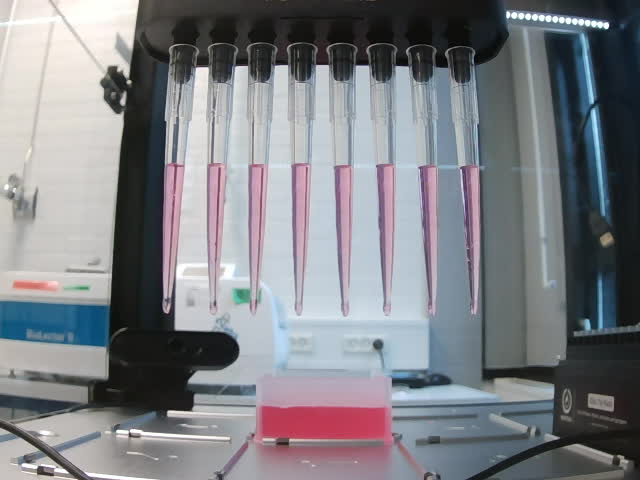pipet: (444, 43, 482, 317), (161, 44, 199, 316), (405, 43, 440, 318), (325, 42, 359, 318), (205, 43, 239, 317), (246, 42, 279, 317), (366, 42, 399, 317), (286, 43, 317, 317)
red liquid: (162, 163, 186, 316), (458, 164, 482, 317), (375, 163, 398, 318), (417, 164, 440, 317), (290, 163, 312, 317), (206, 163, 228, 316), (333, 164, 354, 318), (248, 164, 269, 317)
